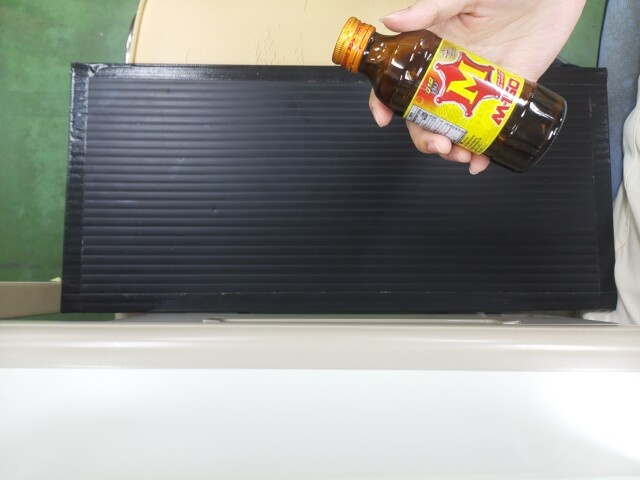glass_bottle: (330, 17, 565, 170)
